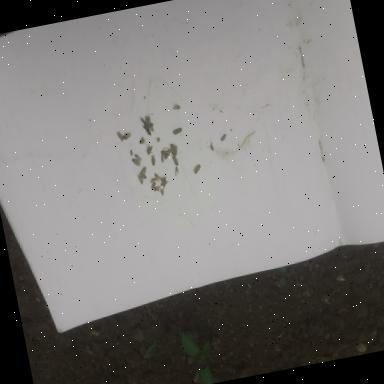pbw: (162, 148, 173, 162), (160, 174, 170, 188), (193, 164, 203, 176), (172, 143, 180, 157), (146, 142, 154, 156), (132, 158, 142, 168), (154, 172, 162, 184), (138, 136, 148, 145), (139, 166, 148, 176), (173, 128, 184, 136), (122, 132, 133, 140), (116, 131, 124, 142), (134, 153, 142, 164), (145, 126, 152, 138), (172, 154, 179, 166), (137, 172, 147, 180), (148, 176, 158, 184), (170, 144, 176, 157), (151, 154, 157, 167), (149, 182, 157, 190), (220, 134, 228, 142), (172, 105, 181, 112), (140, 117, 147, 126), (210, 142, 216, 152), (148, 124, 154, 134), (175, 166, 180, 176), (160, 188, 166, 196), (145, 116, 149, 126), (154, 186, 160, 192), (160, 155, 164, 163), (130, 150, 134, 157)
